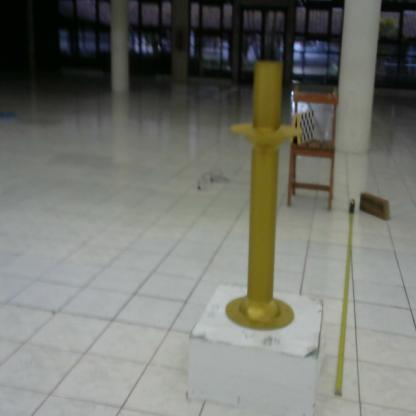pole: (216, 51, 310, 341)
